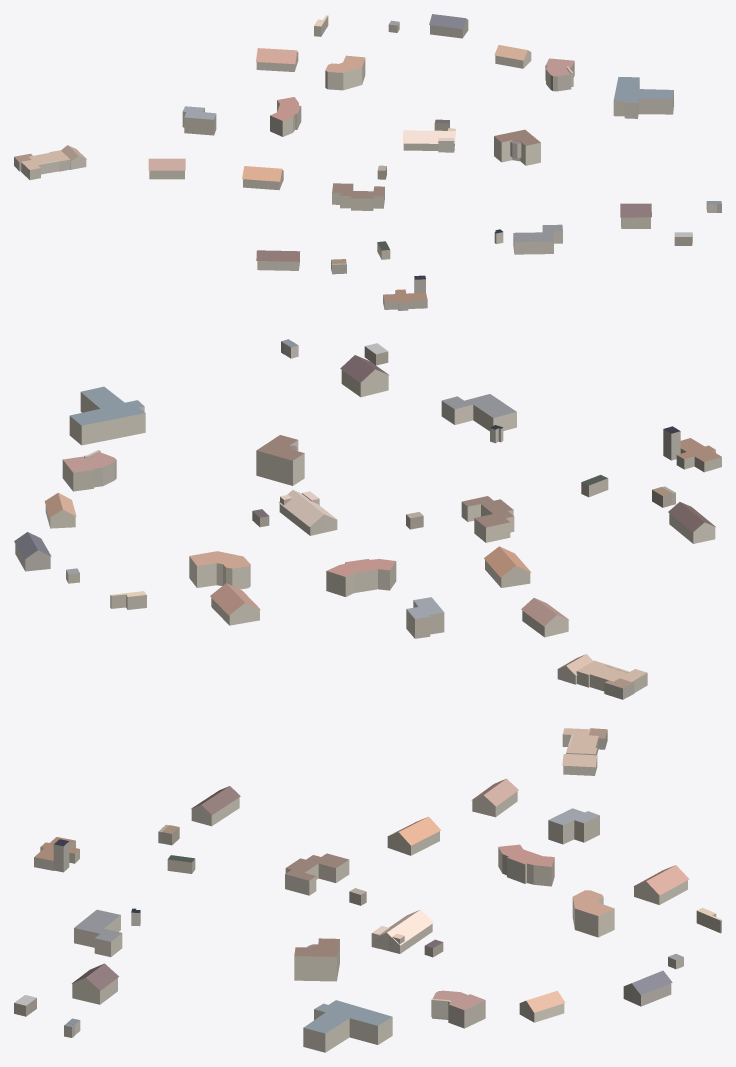
The picture shows the model from 3 angles, top to bottom: view 1: azimuth 30°, elevation 25°; view 2: azimuth 150°, elevation 25°; view 3: azimuth 270°, elevation 25°; orthographic projection. The views are drawn at different scales.
Visible parts, largest first — view 1: tuile; view 2: tuile; view 3: tuile.
Part boxes in pixels (left/top/right/bottom): tuile: left=14, top=14, right=721, bottom=310; tuile: left=14, top=339, right=721, bottom=699; tuile: left=14, top=728, right=721, bottom=1052.
Size of the model in its own units: 262 by 21.28 by 239.
